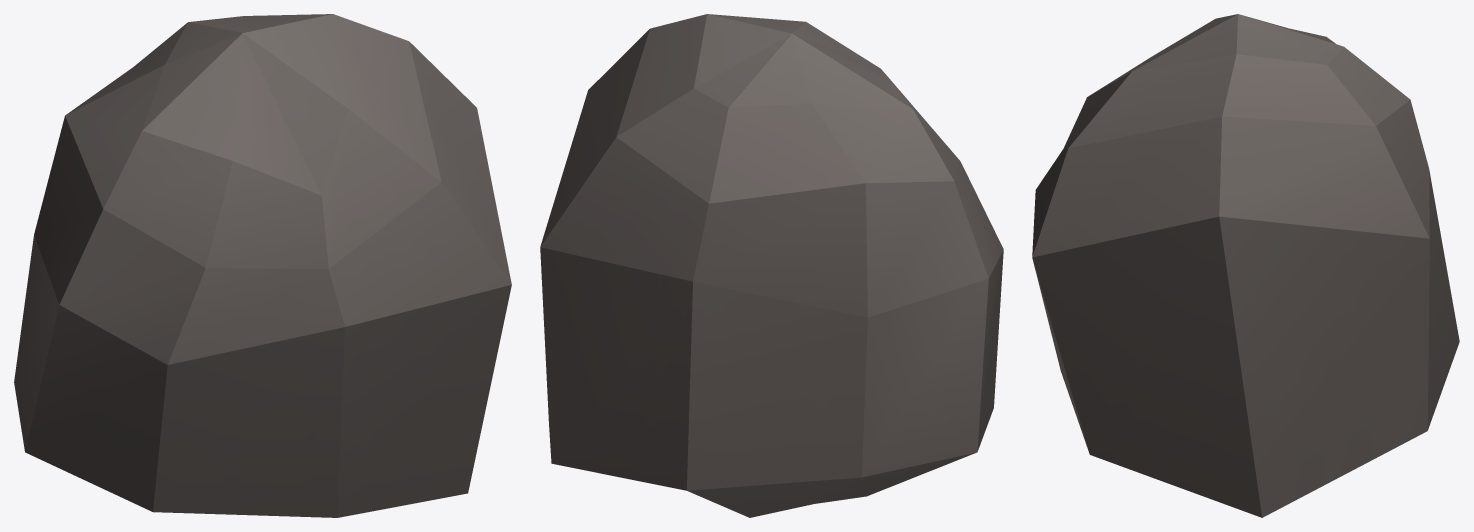
Rendered from pedra5.fbx.
3 views of the same model, side by side, from view 1: azimuth 30°, elevation 25°; view 2: azimuth 150°, elevation 25°; view 3: azimuth 270°, elevation 25° (orthographic). The views are drawn at different scales.
Parts seen in each view (by area): view 1: pSphere8; view 2: pSphere8; view 3: pSphere8.
Boxes of the visible parts, <box> form: pSphere8: <box>14,14,511,517</box>; pSphere8: <box>540,14,1003,517</box>; pSphere8: <box>1032,14,1459,517</box>.
Size of the model in its own units: 3.09 by 3.06 by 2.92.
